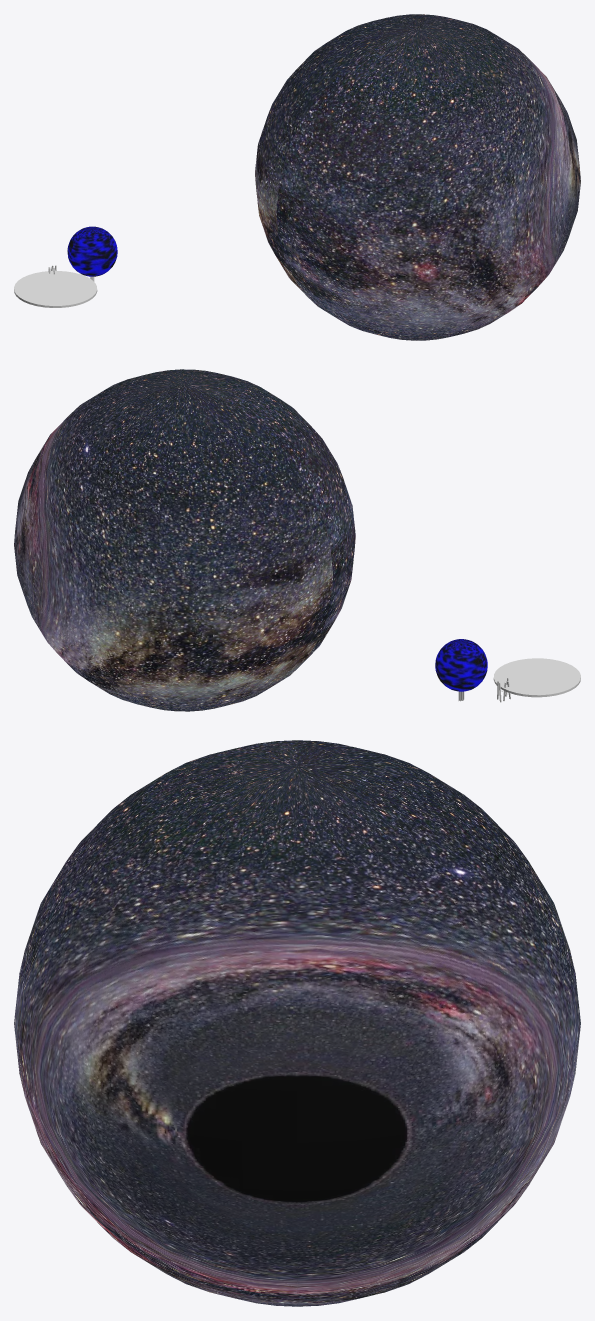
Rendered from mimita-horror-test-v1.glb.
3 renders of one model, top to bottom at view 1: azimuth 30°, elevation 25°; view 2: azimuth 150°, elevation 25°; view 3: azimuth 270°, elevation 25°, orthographic. The views are drawn at different scales.
Parts seen in each view (by area): view 1: Sphere.001, Cylinder, Sphere; view 2: Sphere.001, Cylinder, Sphere; view 3: Sphere.001.
Boxes of the visible parts, x1,y1,x2,y2 form: Sphere.001: (255,14,580,340); Cylinder: (14,271,97,307); Sphere: (67,226,117,276); Sphere.001: (14,369,355,711); Cylinder: (493,658,580,697); Sphere: (435,639,487,691); Sphere.001: (14,740,580,1306).
Bounding box in the file's own units: 3720 × 1998 × 1998.
10 materials, 10 textured.
